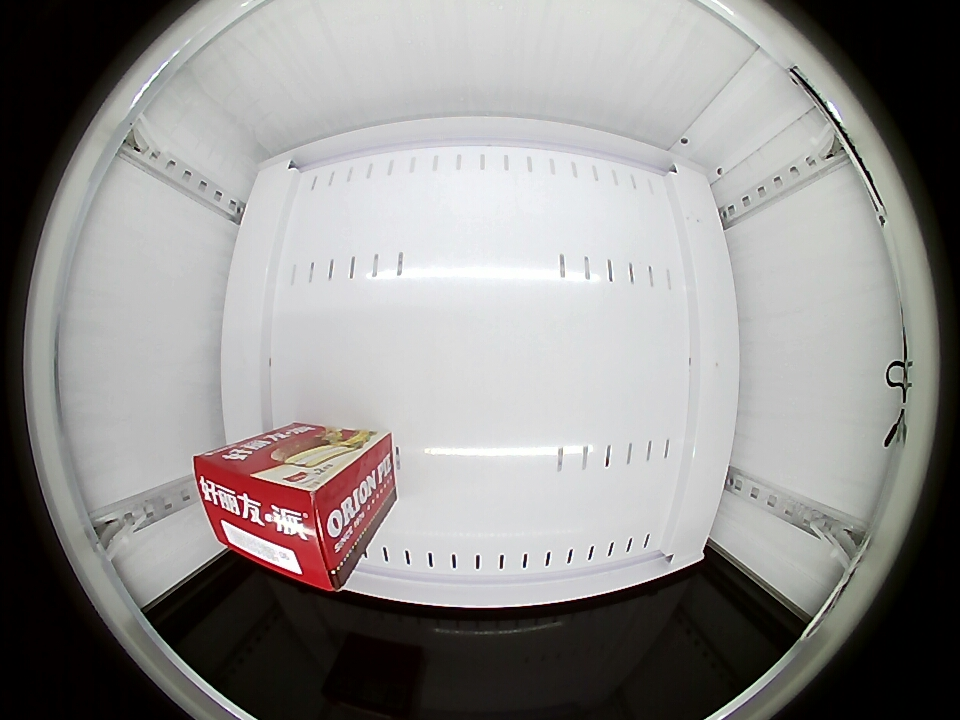haoliyou: (193, 441, 362, 588)
